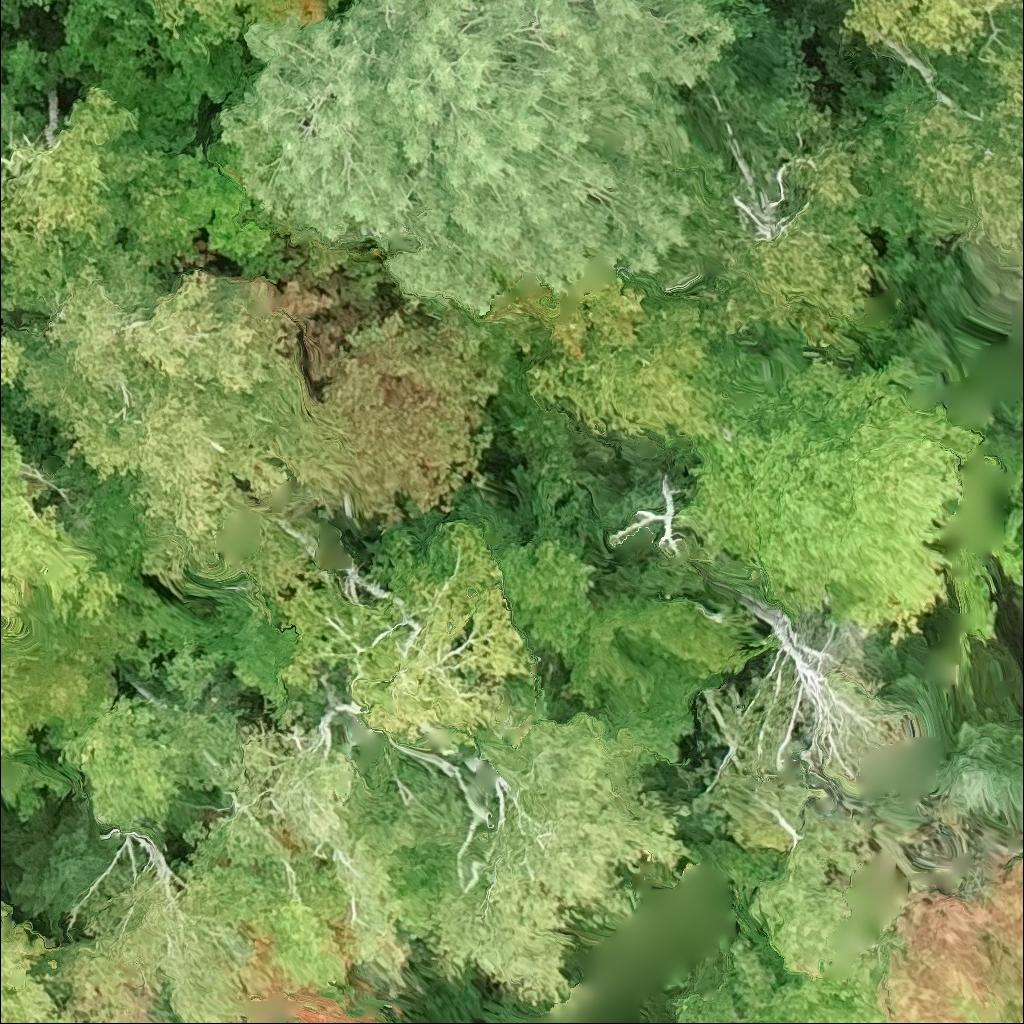crown: (369, 0, 742, 320), (0, 239, 294, 585), (218, 0, 418, 256), (0, 84, 156, 314), (0, 415, 128, 644), (0, 880, 93, 1023), (838, 0, 1023, 56), (115, 162, 195, 269), (739, 973, 895, 1023), (0, 667, 30, 747), (296, 998, 383, 1023), (0, 338, 18, 403), (0, 0, 16, 26)
